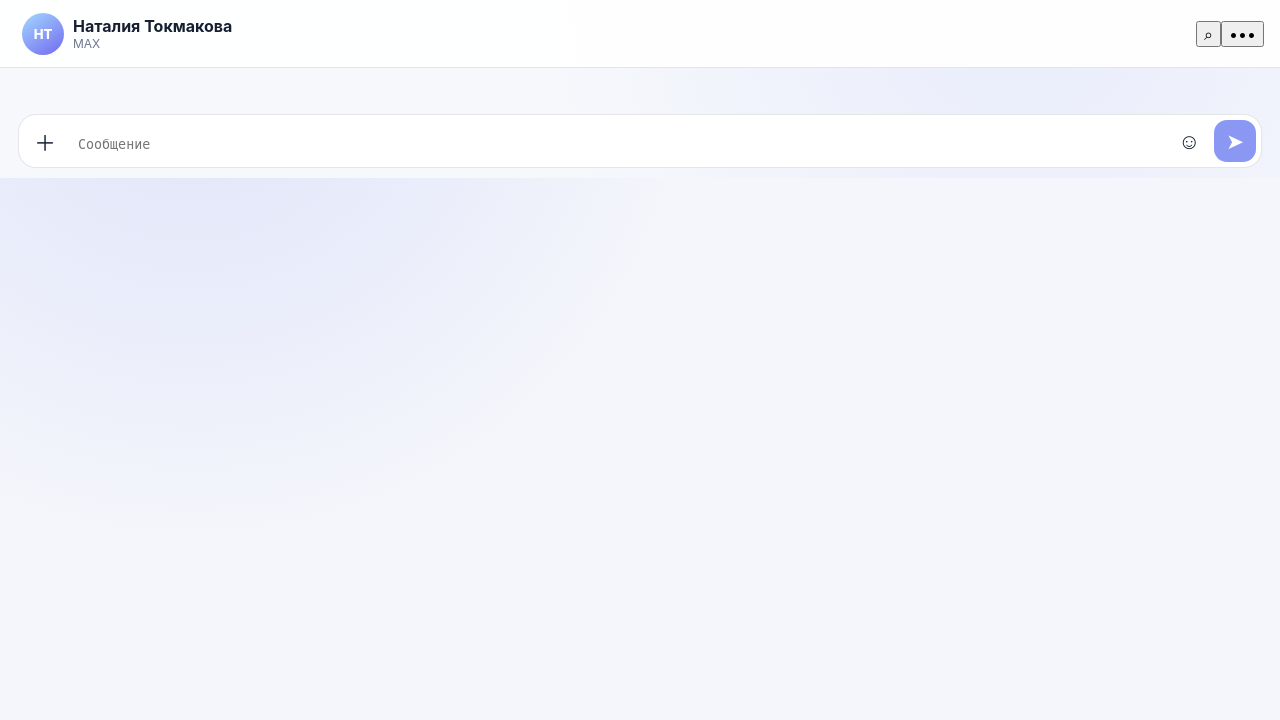
ContactProfile › names a group chat as Группа
Click the button with aria-label "Профиль: " at (43, 34), box [16,12,1184,56]
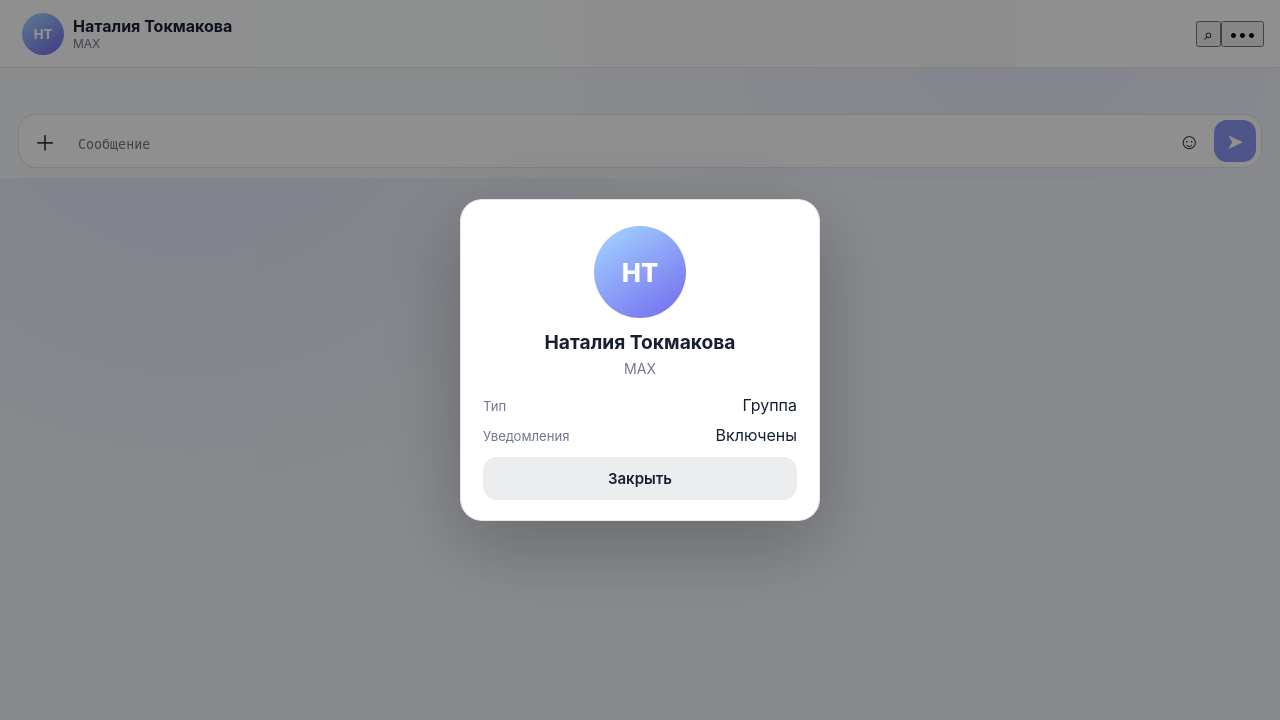
expect the dialog shows "Группа": met, box [742,395,797,415]
